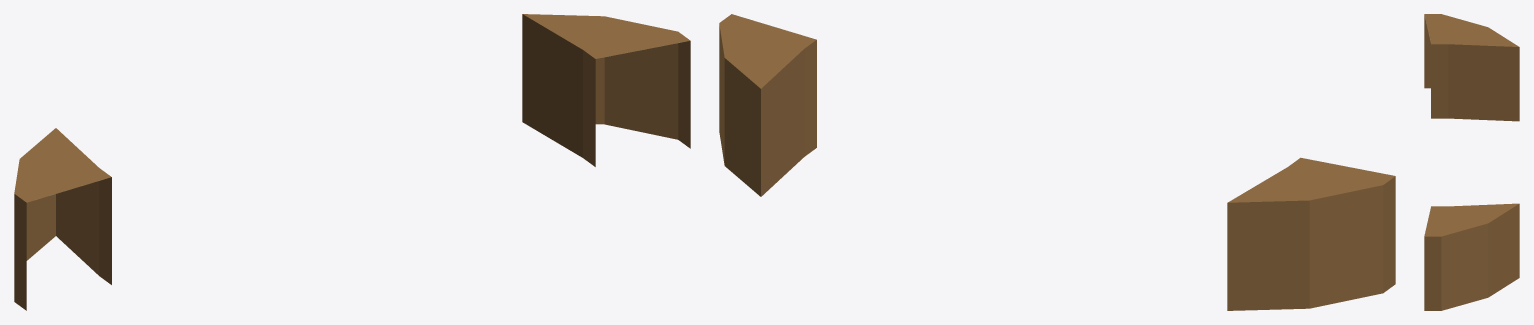
The model's file is stone_slinger_barrel.fbx.
3 renders of one model, left to right at view 1: azimuth 30°, elevation 25°; view 2: azimuth 150°, elevation 25°; view 3: azimuth 270°, elevation 25°, orthographic. The views are drawn at different scales.
Parts seen in each view (by area): view 1: barrel_visual; view 2: barrel_visual; view 3: barrel_visual.
Boxes of the visible parts, left/top/right/bottom form: barrel_visual: left=14, top=14, right=690, bottom=310; barrel_visual: left=719, top=14, right=1395, bottom=310; barrel_visual: left=1424, top=14, right=1519, bottom=310.
Bounding box in the file's own units: 99.02 × 15.42 × 17.95.
1 material, 1 textured.
